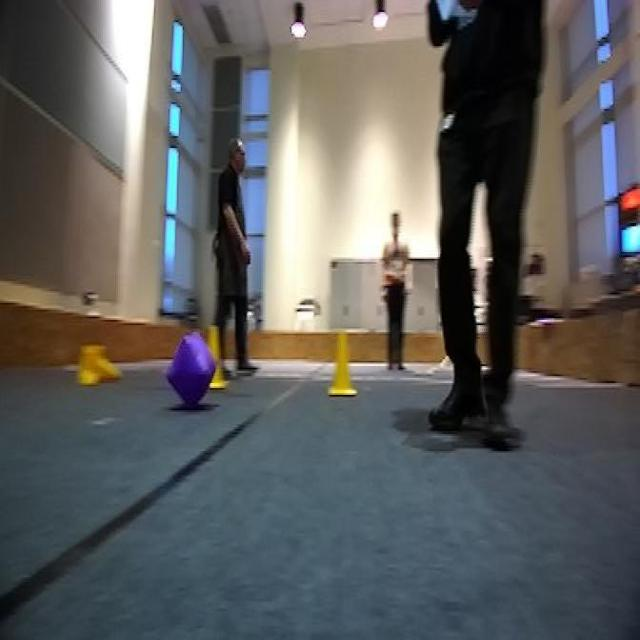frc_cone: (78, 341, 119, 388), (330, 328, 355, 396), (201, 332, 229, 391)
frc_cube: (168, 337, 212, 412)
